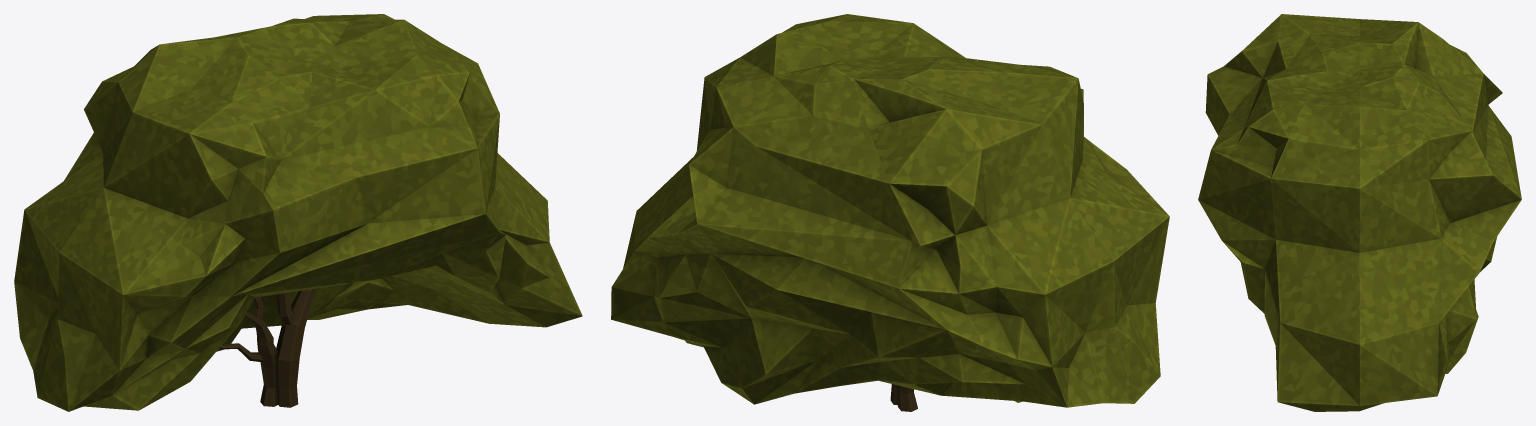
Rendered from BeechTree.gltf.
3 views of the same model, side by side, from view 1: azimuth 30°, elevation 25°; view 2: azimuth 150°, elevation 25°; view 3: azimuth 270°, elevation 25° (orthographic). The views are drawn at different scales.
Parts seen in each view (by area): view 1: node-0; view 2: node-0; view 3: node-0.
Boxes of the visible parts, box(x1,y1,x2,y2) form: node-0: box(14, 14, 582, 411); node-0: box(611, 14, 1169, 411); node-0: box(1198, 14, 1521, 411).
Bounding box in the file's own units: 13.97 × 9.23 × 9.21.
Materials: 1 (1 with a texture image).
